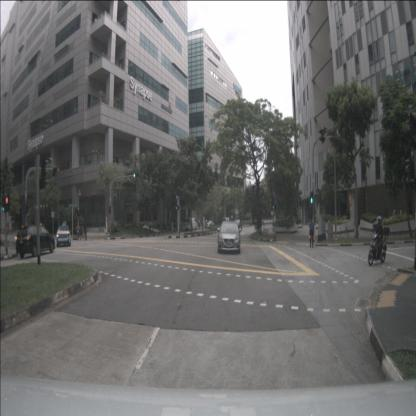human-pedestrian-adult: (308, 217, 315, 248), (392, 207, 397, 227), (83, 223, 88, 241), (76, 223, 80, 242), (399, 207, 403, 226), (198, 218, 201, 230)
vehicle-bicycle: (256, 222, 268, 237)
vehicle-car: (16, 224, 55, 258), (218, 221, 240, 254), (56, 225, 71, 247), (184, 217, 197, 232), (233, 219, 242, 232), (205, 220, 214, 229), (222, 218, 230, 228)
vehicle-motorcycle: (368, 215, 390, 266)
